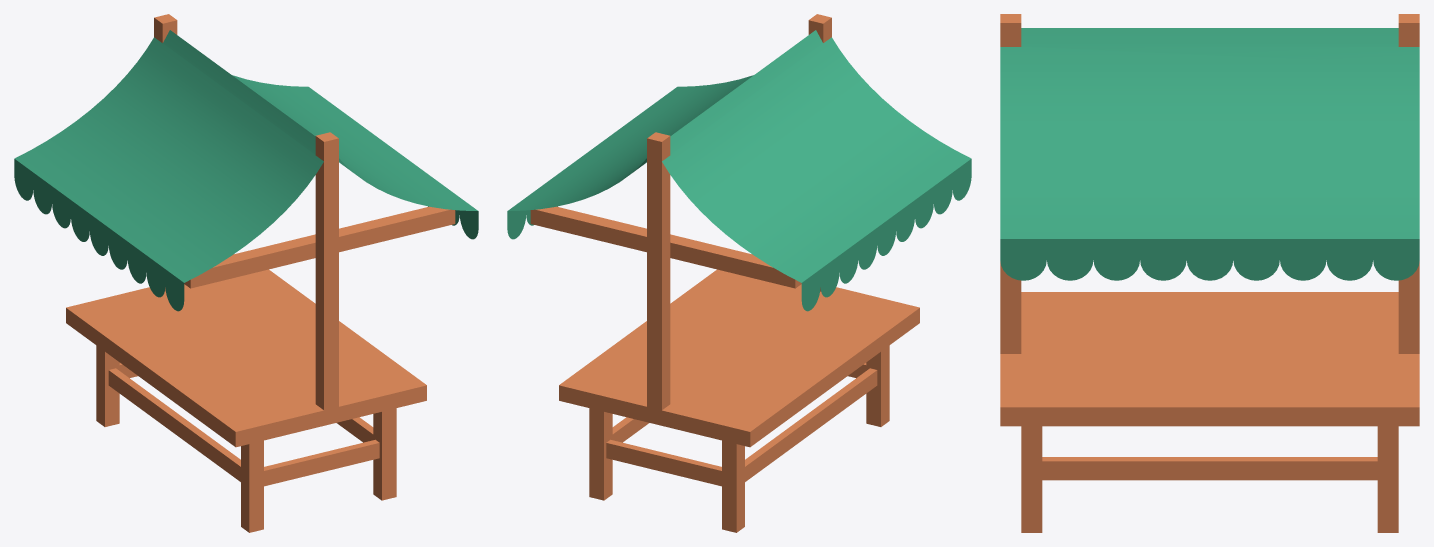
The model's file is stallGreen.glb.
3 views of the same model, side by side, from view 1: azimuth 30°, elevation 25°; view 2: azimuth 150°, elevation 25°; view 3: azimuth 270°, elevation 25° (orthographic). The views are drawn at different scales.
Parts seen in each view (by area): view 1: stallGreen; view 2: stallGreen; view 3: stallGreen.
Boxes of the visible parts, box(x1,y1,x2,y2) form: stallGreen: box(14, 14, 478, 532); stallGreen: box(507, 14, 971, 532); stallGreen: box(1000, 14, 1419, 532).
Size of the model in its own units: 2 by 2.47 by 2.
